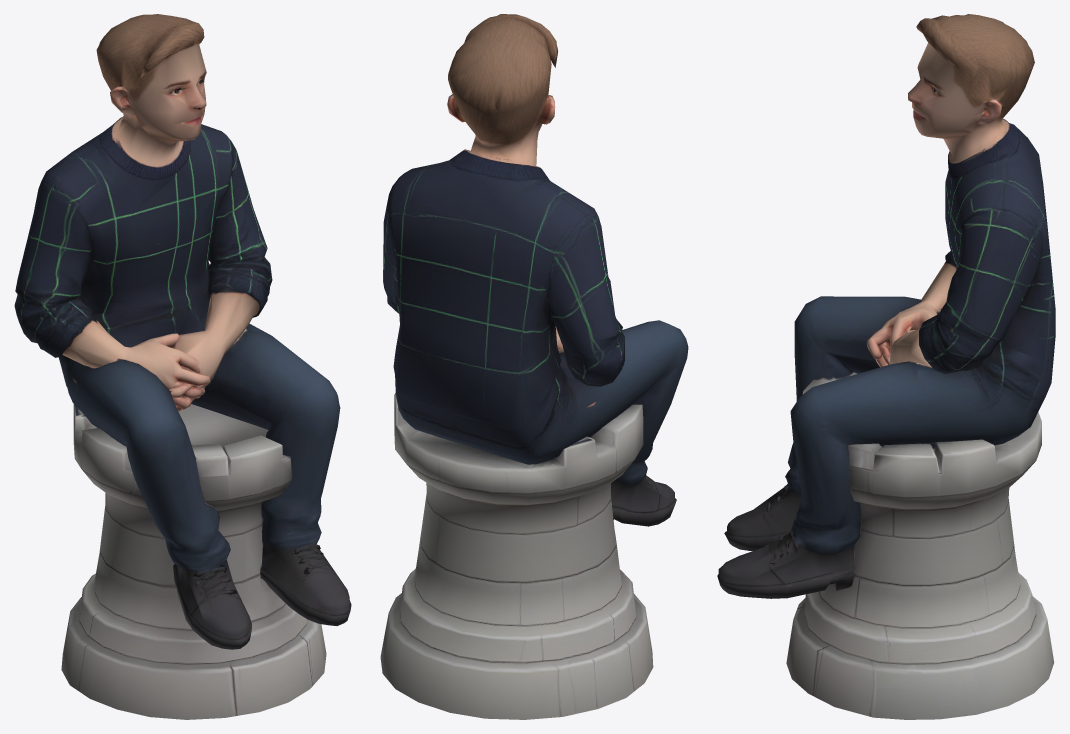
The model's file is selected.glb.
The picture shows the model from 3 angles, left to right: view 1: azimuth 30°, elevation 25°; view 2: azimuth 150°, elevation 25°; view 3: azimuth 270°, elevation 25°; orthographic projection. The views are drawn at different scales.
Visible parts, largest first — view 1: tripo_node_13b20d3c-01ea-4338-8728-752922d211e0; view 2: tripo_node_13b20d3c-01ea-4338-8728-752922d211e0; view 3: tripo_node_13b20d3c-01ea-4338-8728-752922d211e0.
Part boxes in pixels (x1,y1,x2,y2): tripo_node_13b20d3c-01ea-4338-8728-752922d211e0: [14, 14, 351, 719]; tripo_node_13b20d3c-01ea-4338-8728-752922d211e0: [380, 14, 688, 719]; tripo_node_13b20d3c-01ea-4338-8728-752922d211e0: [717, 14, 1055, 719].
Size of the model in its own units: 0.416 by 0.998 by 0.4785.
1 material, 1 textured.
